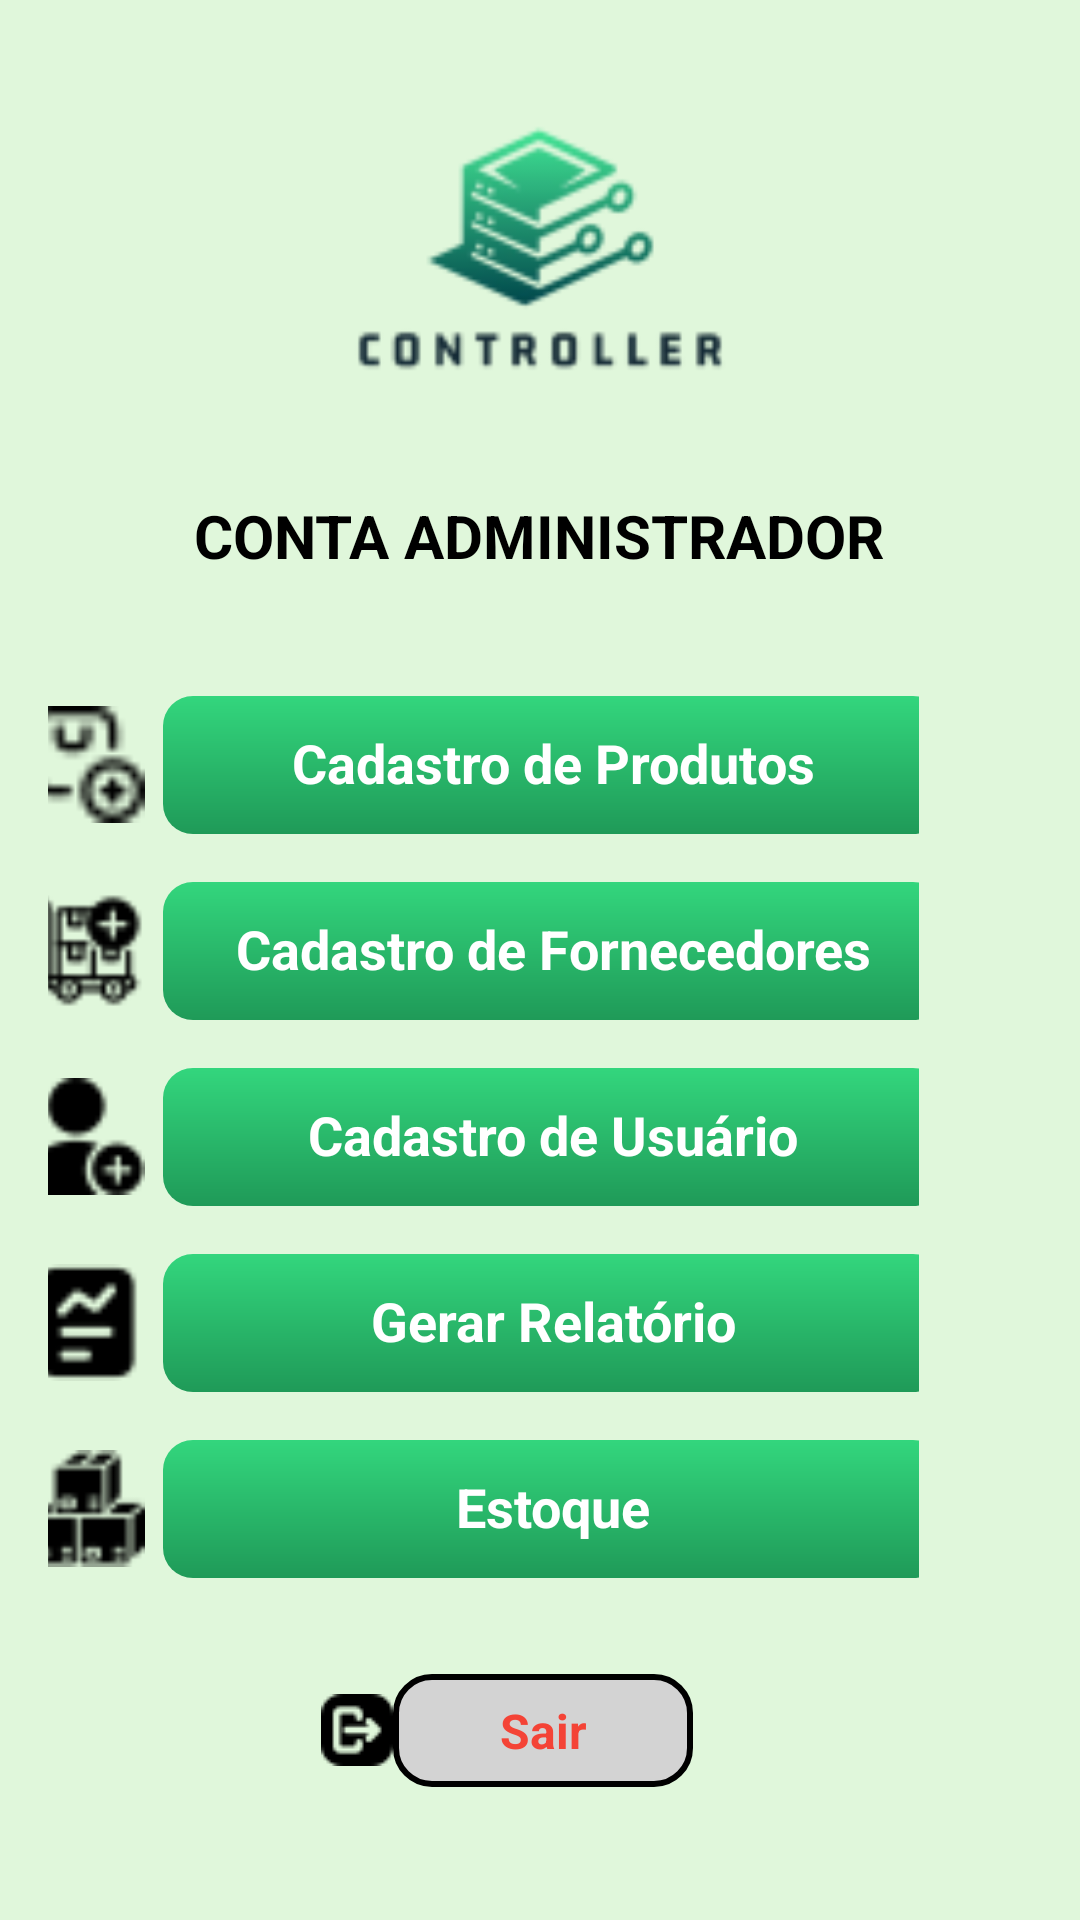

Named icons in this screenshot (1080×1920) and their centers, (x=x, y=y):
add supplier: (x=95, y=950)
user: (x=96, y=1136)
